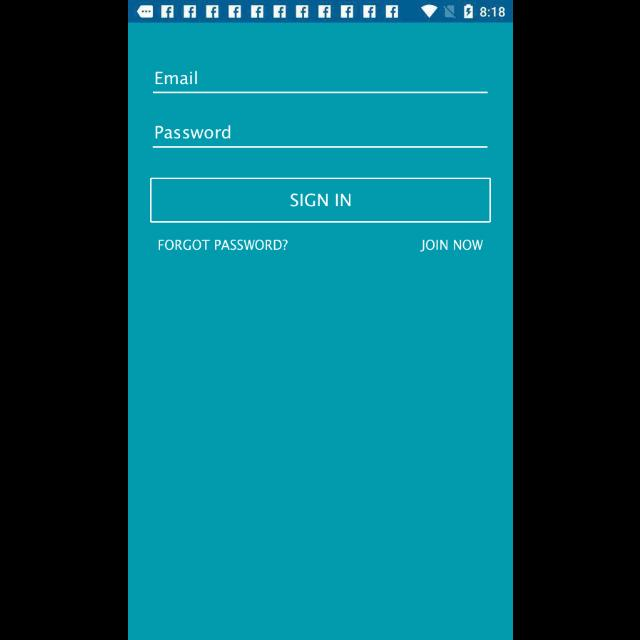input: (152, 125, 488, 148), (152, 72, 488, 95)
text: (158, 240, 288, 250), (155, 126, 229, 140), (420, 240, 482, 252), (156, 71, 198, 85)
textbutton: (150, 178, 490, 222)
uppertaskbar: (128, 1, 512, 23)
